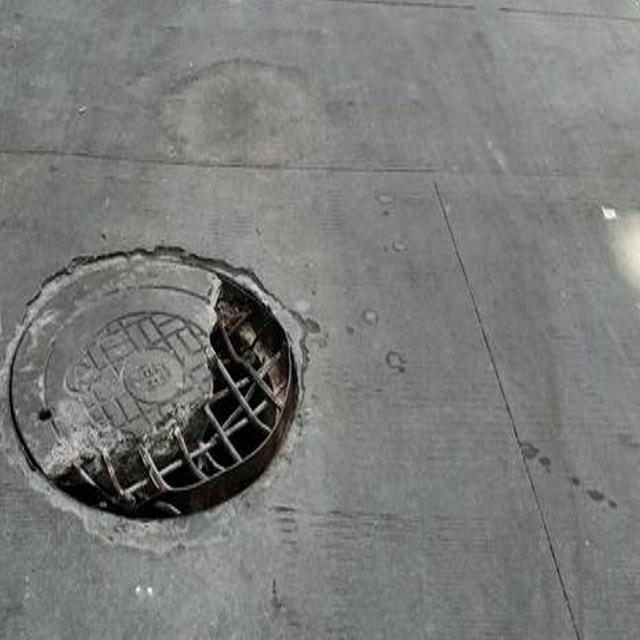broke: (0, 183, 357, 607)
